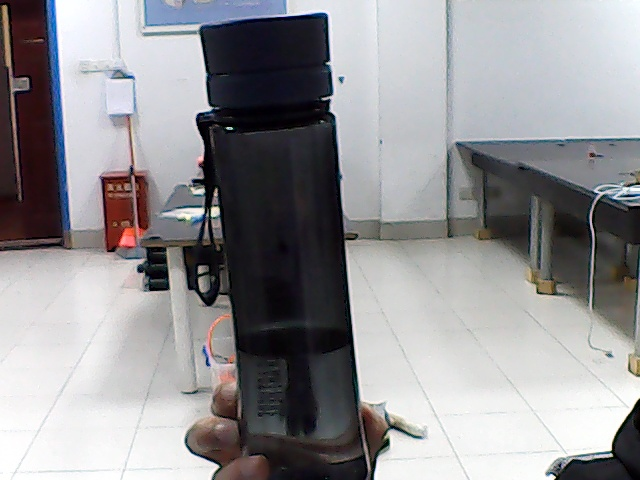cup: (256, 39, 326, 455)
